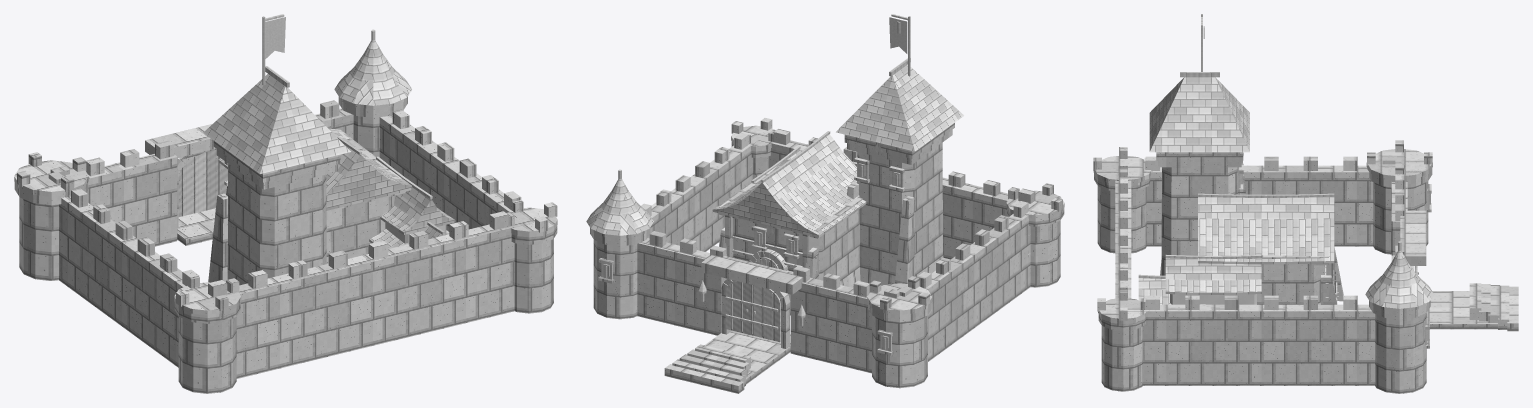
The model's file is AshenBastion_3.obj.
The picture shows the model from 3 angles, left to right: view 1: azimuth 30°, elevation 25°; view 2: azimuth 150°, elevation 25°; view 3: azimuth 270°, elevation 25°; orthographic projection. The views are drawn at different scales.
Visible parts, largest first — view 1: AshenBastion_3; view 2: AshenBastion_3; view 3: AshenBastion_3.
Part boxes in pixels (x1=…): AshenBastion_3: x1=14, y1=14, x2=557, y2=393; AshenBastion_3: x1=586, y1=14, x2=1064, y2=393; AshenBastion_3: x1=1093, y1=14, x2=1518, y2=393.
Bounding box in the file's own units: 17.36 × 13.16 × 18.61.
Materials: 12 (12 with a texture image).
